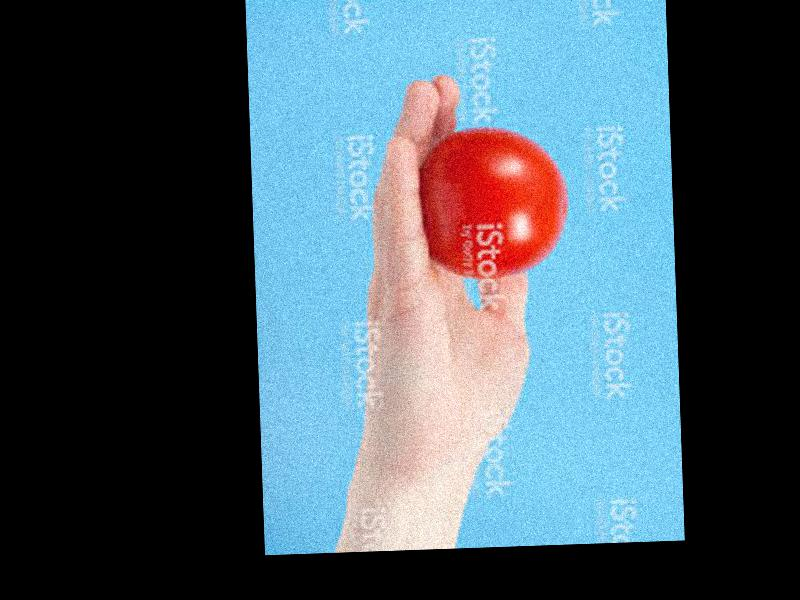Tomato: (419, 125, 567, 278)
